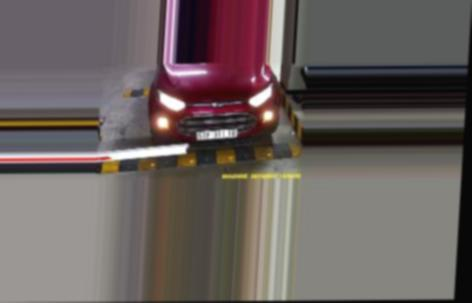License_Plate: (196, 128, 239, 138)
